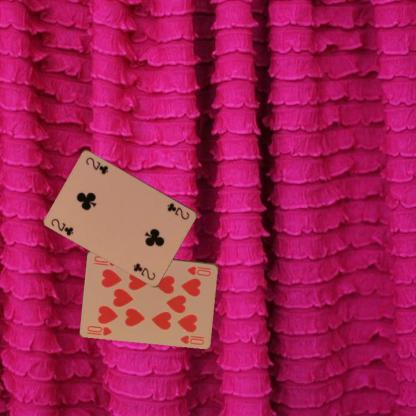10h: (185, 263, 213, 278), (85, 323, 113, 336)
2c: (164, 200, 190, 221), (48, 216, 74, 237)
